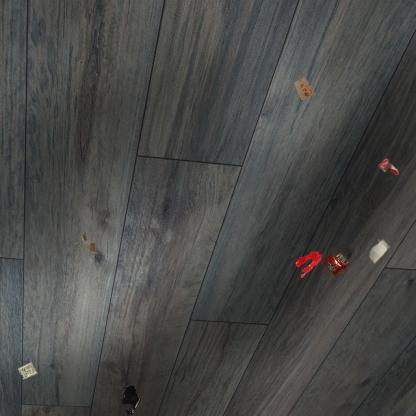dirty: (320, 250, 352, 279), (368, 238, 391, 264), (80, 231, 103, 255), (292, 76, 314, 100), (16, 360, 38, 381), (377, 157, 399, 177)
liquid: (294, 250, 322, 279), (120, 383, 142, 415)
